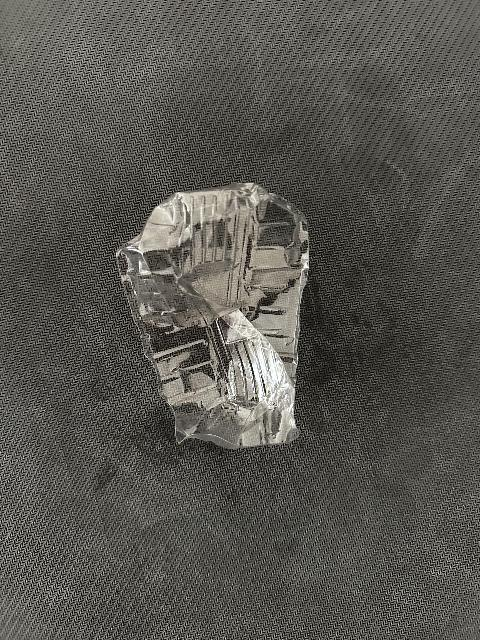Plastik: (117, 176, 314, 456)
